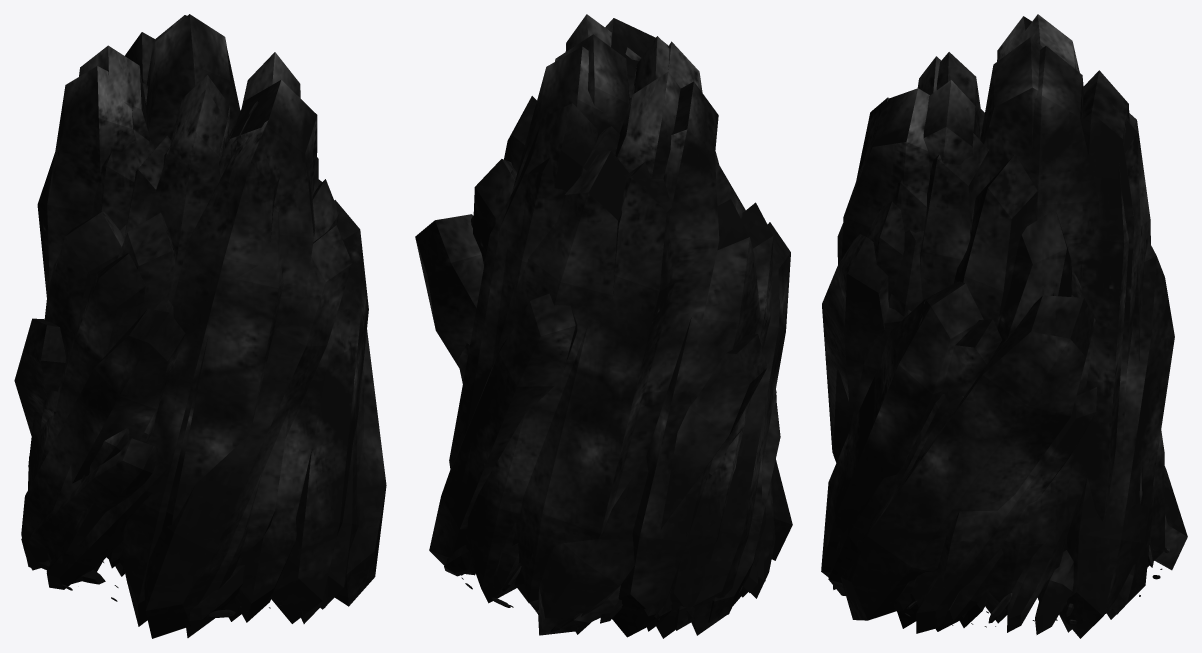
File: crstl.glb
3 renders of one model, left to right at view 1: azimuth 30°, elevation 25°; view 2: azimuth 150°, elevation 25°; view 3: azimuth 270°, elevation 25°, orthographic.
Parts seen in each view (by area): view 1: Crystal Red Amber; view 2: Crystal Red Amber; view 3: Crystal Red Amber.
Part boxes in pixels (bbox=[...]): Crystal Red Amber: bbox=[14, 14, 386, 638]; Crystal Red Amber: bbox=[415, 14, 792, 638]; Crystal Red Amber: bbox=[821, 14, 1187, 638].
Bounding box in the file's own units: 0.2142 × 0.3567 × 0.2134.
1 material, 1 textured.
